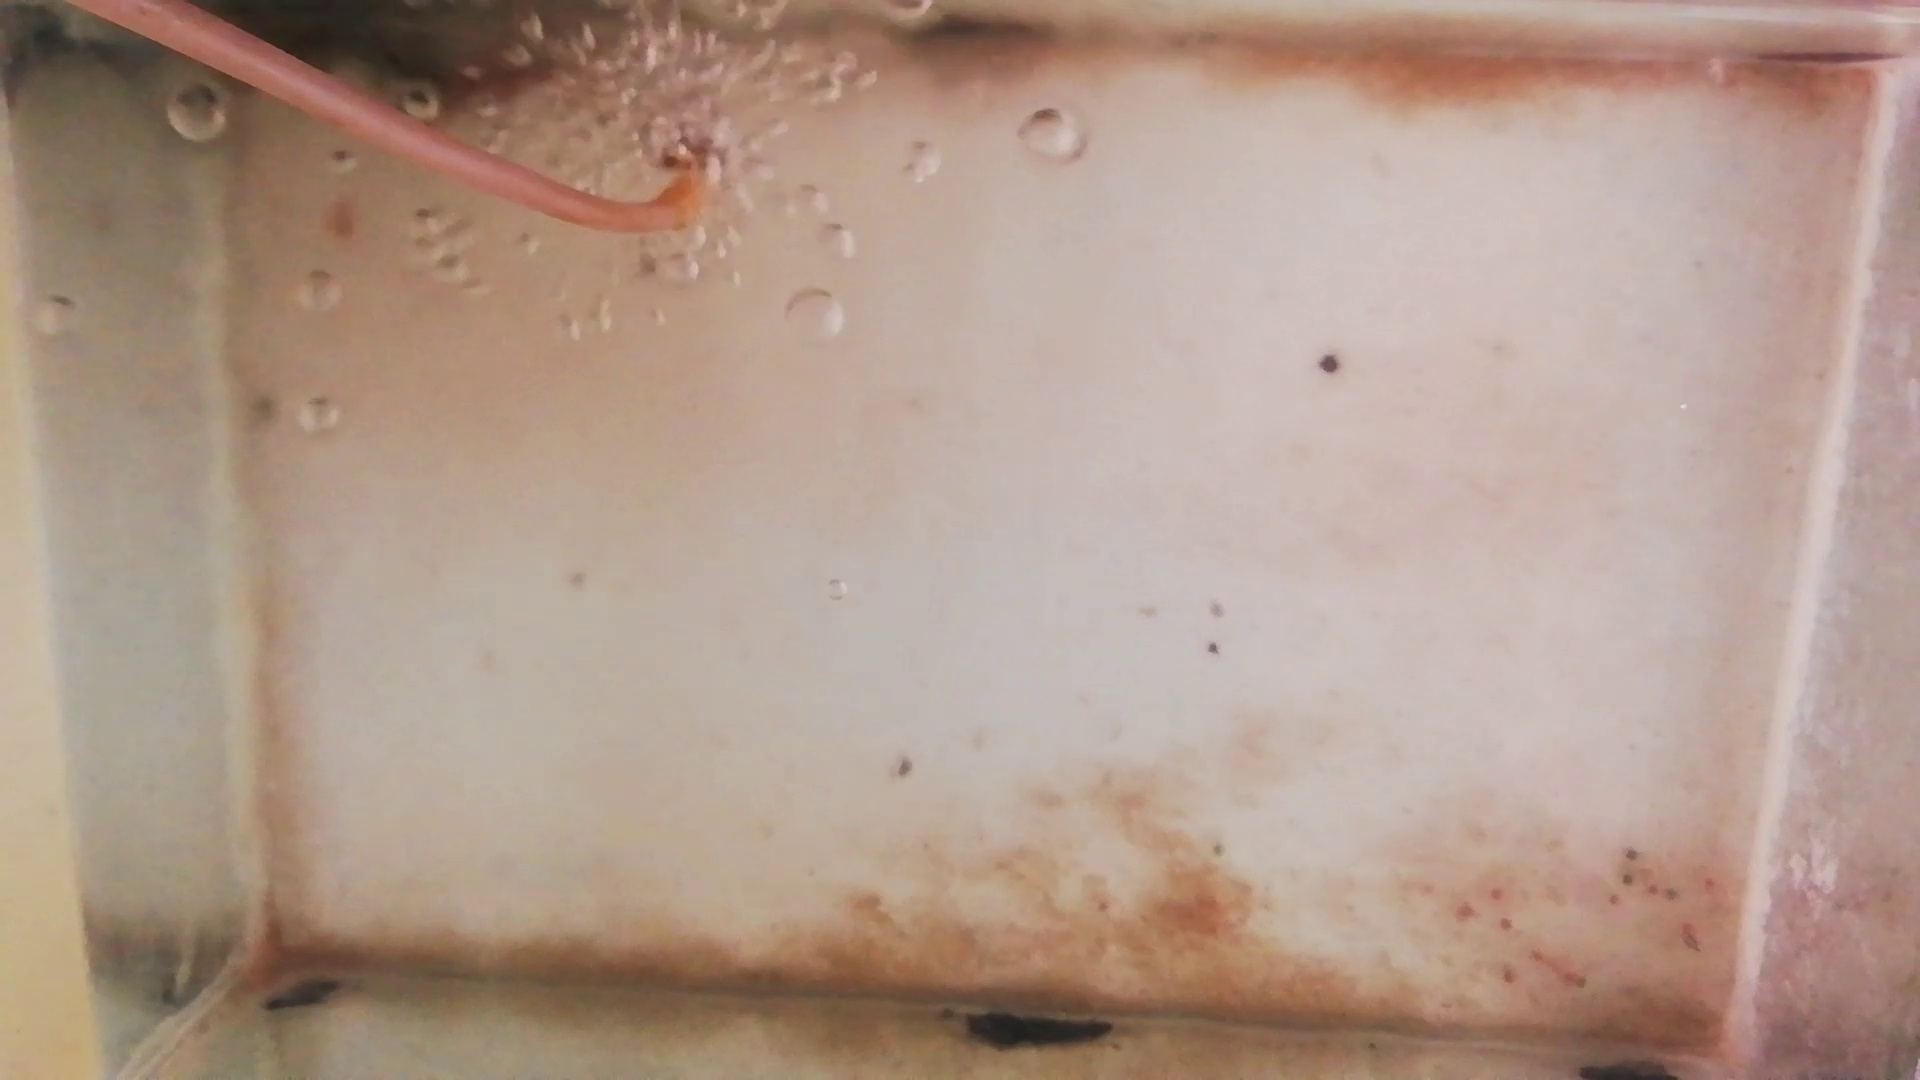fish: (444, 59, 568, 117), (309, 36, 444, 82)
